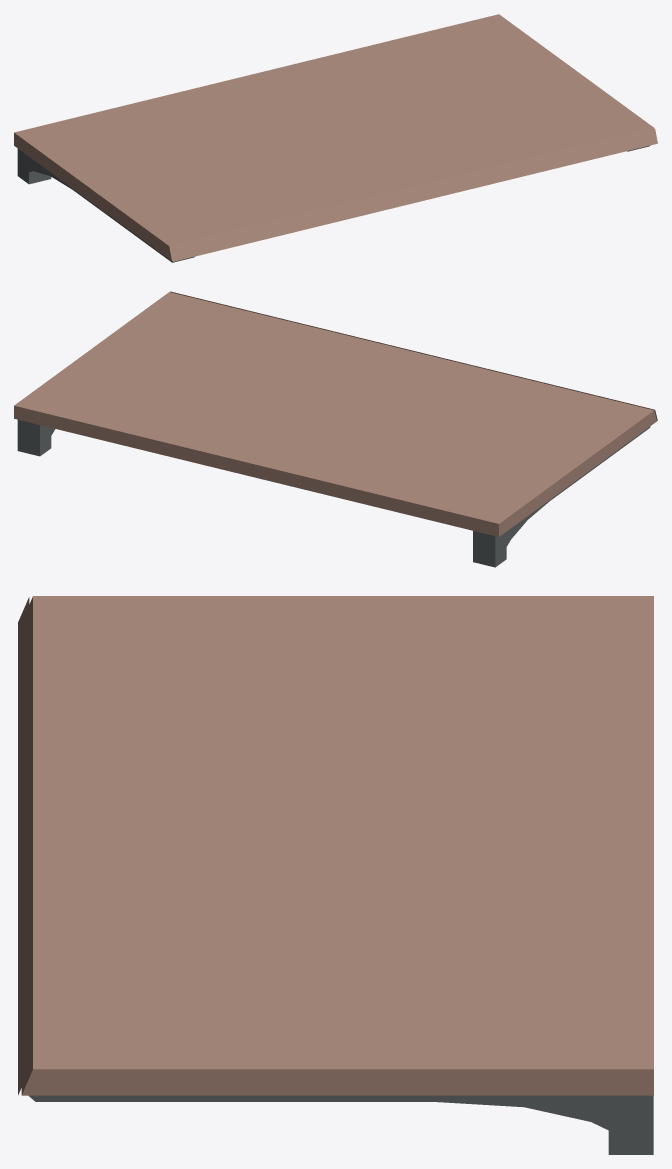
The model's file is SM_platform_01.fbx.
3 renders of one model, top to bottom at view 1: azimuth 30°, elevation 25°; view 2: azimuth 150°, elevation 25°; view 3: azimuth 270°, elevation 25°, orthographic. The views are drawn at different scales.
Parts seen in each view (by area): view 1: platform_01; view 2: platform_01; view 3: platform_01.
Part boxes in pixels (x1=…): platform_01: x1=14, y1=14, x2=657, y2=262; platform_01: x1=14, y1=291, x2=657, y2=567; platform_01: x1=18, y1=596, x2=653, y2=1154.
Size of the model in its own units: 168 by 14.7 by 95.1.
